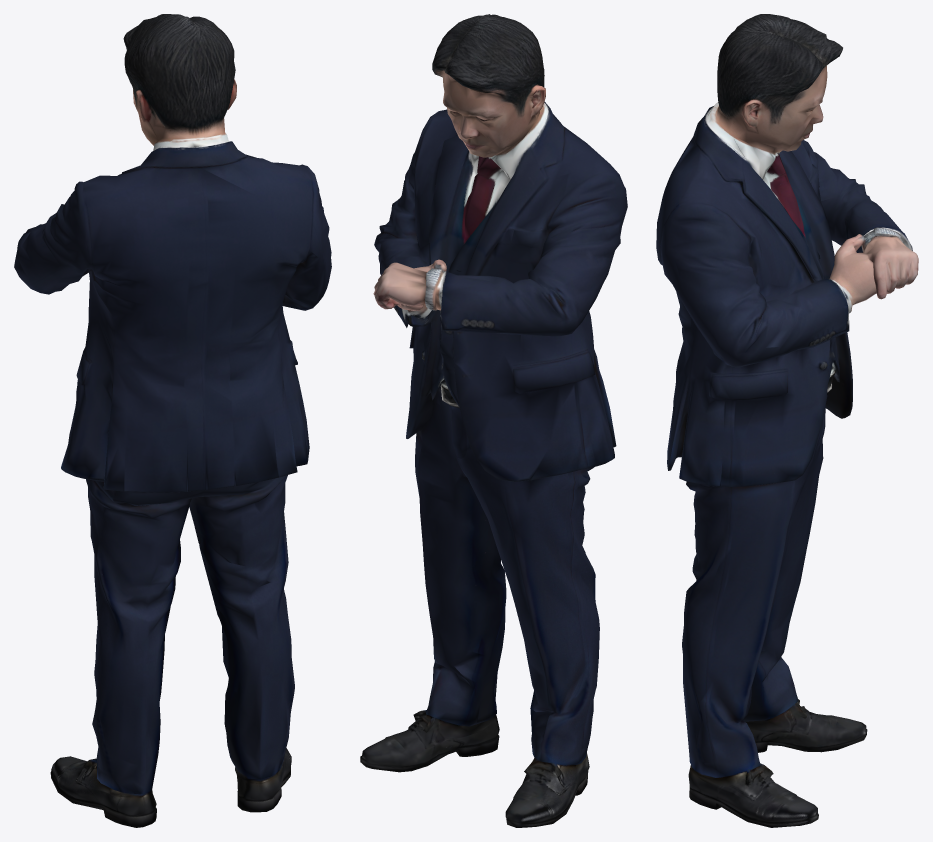
File: person-business-m03.glb
3 views of the same model, side by side, from view 1: azimuth 30°, elevation 25°; view 2: azimuth 150°, elevation 25°; view 3: azimuth 270°, elevation 25° (orthographic). The views are drawn at different scales.
Parts seen in each view (by area): view 1: JPGV01_M03_L10k; view 2: JPGV01_M03_L10k; view 3: JPGV01_M03_L10k.
Boxes of the visible parts, left/top/right/bottom form: JPGV01_M03_L10k: left=14, top=14, right=331, bottom=827; JPGV01_M03_L10k: left=360, top=14, right=627, bottom=827; JPGV01_M03_L10k: left=656, top=14, right=918, bottom=827.
Bounding box in the file's own units: 0.6069 × 1.74 × 0.5475.
Materials: 1 (1 with a texture image).
